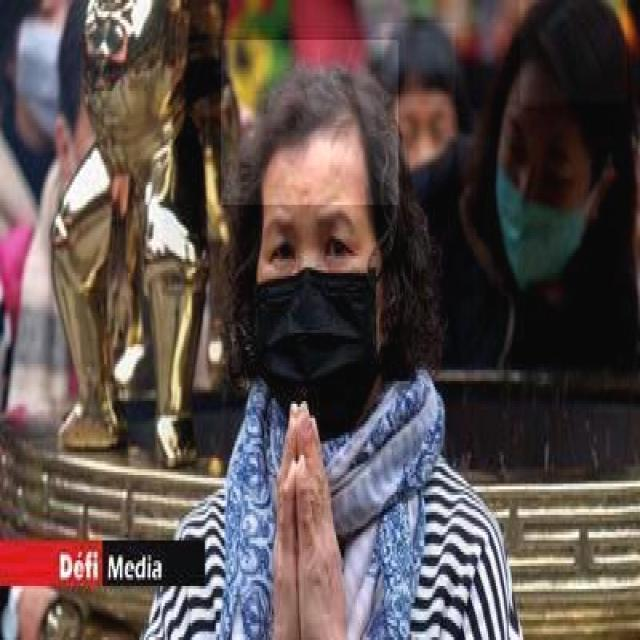face_mask: (246, 202, 384, 438), (493, 100, 589, 293)
hand_noglove: (270, 401, 349, 637)
head_nohelmet: (221, 39, 400, 208), (520, 0, 629, 105), (380, 23, 458, 102)
person: (162, 37, 475, 637)
